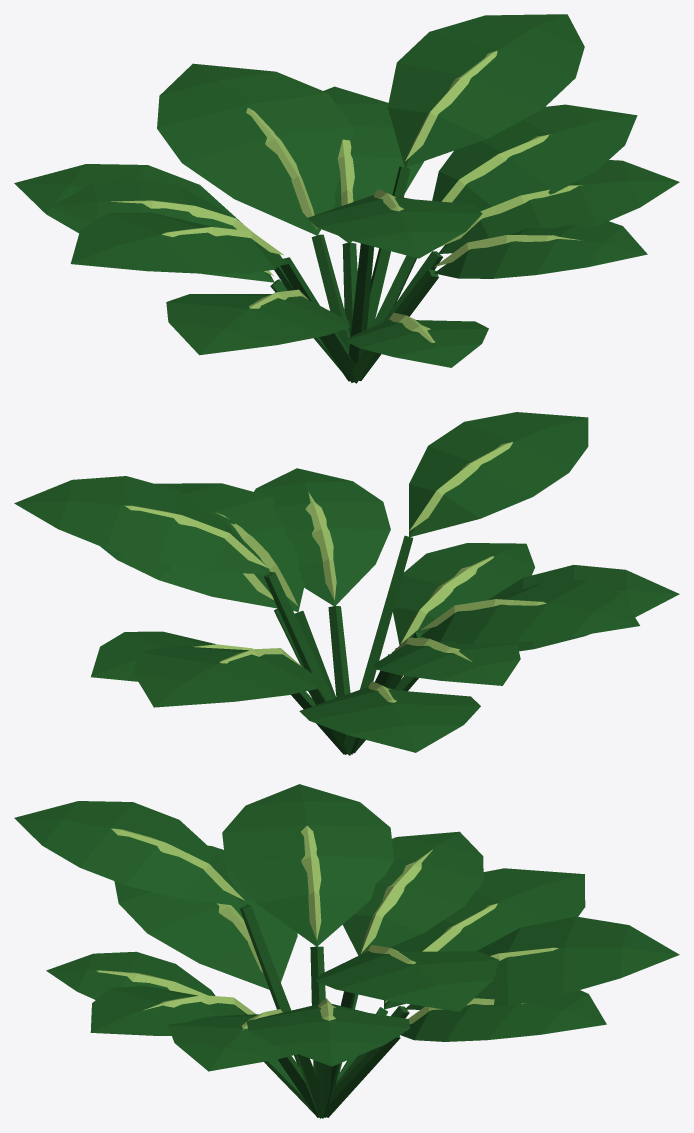
The model's file is ground_leaves.glb.
3 views of the same model, one above another, from view 1: azimuth 30°, elevation 25°; view 2: azimuth 150°, elevation 25°; view 3: azimuth 270°, elevation 25° (orthographic). The views are drawn at different scales.
Parts seen in each view (by area): view 1: ground_leaves; view 2: ground_leaves; view 3: ground_leaves.
Part boxes in pixels (x1,y1,x2,y2): ground_leaves: (14, 14, 679, 383); ground_leaves: (14, 412, 679, 755); ground_leaves: (14, 784, 679, 1118).
Size of the model in its own units: 1.2 by 0.5249 by 1.22.
